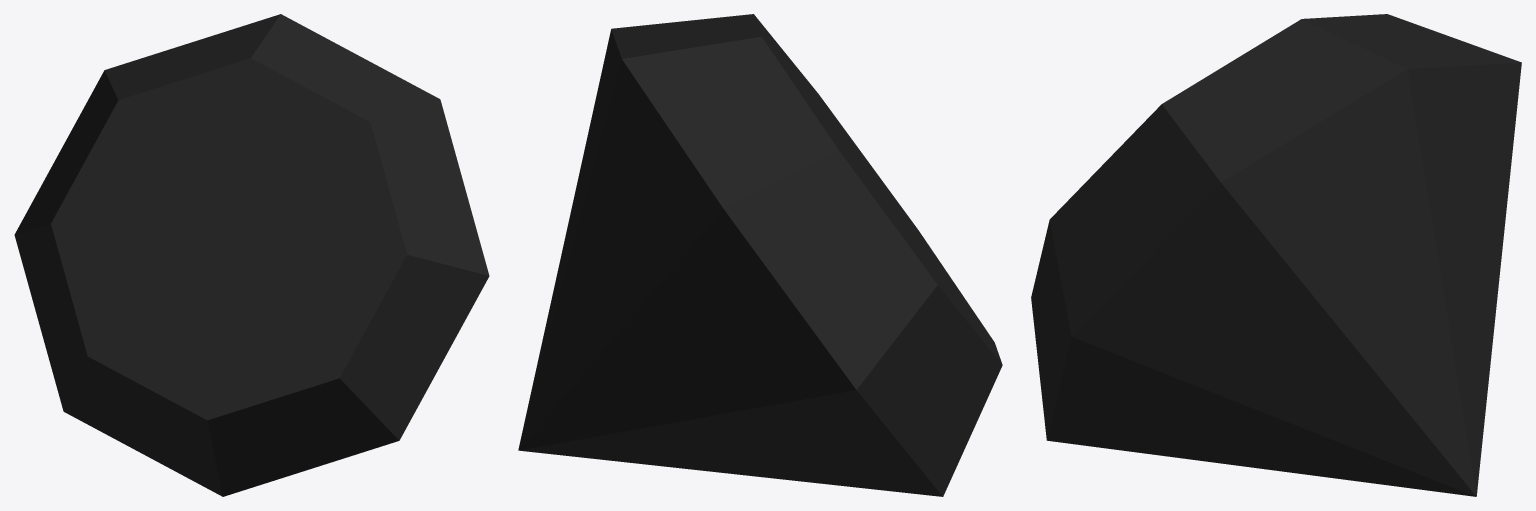
The model's file is SM_Item_Gem_02.glb.
3 views of the same model, side by side, from view 1: azimuth 30°, elevation 25°; view 2: azimuth 150°, elevation 25°; view 3: azimuth 270°, elevation 25° (orthographic). The views are drawn at different scales.
Visible parts, largest first — view 1: SM_Item_Gem_02_00; view 2: SM_Item_Gem_02_00; view 3: SM_Item_Gem_02_00.
Part boxes in pixels (left/top/right/bottom): SM_Item_Gem_02_00: left=14, top=14, right=489, bottom=496; SM_Item_Gem_02_00: left=518, top=14, right=1002, bottom=496; SM_Item_Gem_02_00: left=1031, top=14, right=1521, bottom=496.
Size of the model in its own units: 0.1001 by 0.1066 by 0.1017.
1 material, 1 textured.
